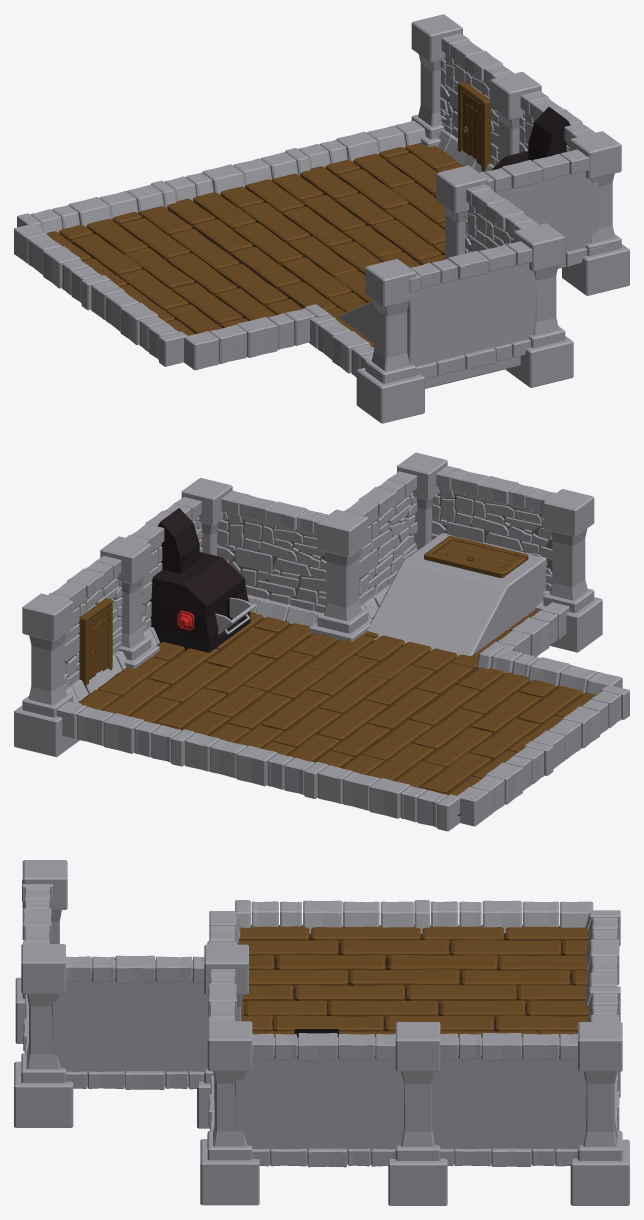
File: Room.fbx
3 renders of one model, top to bottom at view 1: azimuth 30°, elevation 25°; view 2: azimuth 150°, elevation 25°; view 3: azimuth 270°, elevation 25°, orthographic. The views are drawn at different scales.
Visible parts, largest first — view 1: Floor.005, Wall.004, Cube.035, Cube.037; view 2: Floor.005, Wall.004, Cube.037, Cube.036, Cube.035, Cube.038; view 3: Wall.004, Floor.005.
Part boxes in pixels (left/top/right/bottom): Floor.005: left=14, top=120, right=520, bottom=388; Wall.004: left=356, top=14, right=629, bottom=423; Cube.035: left=458, top=81, right=491, bottom=171; Cube.037: left=490, top=107, right=570, bottom=170; Floor.005: left=57, top=533, right=629, bottom=831; Wall.004: left=14, top=452, right=602, bottom=757; Cube.037: left=150, top=508, right=250, bottom=652; Cube.036: left=424, top=535, right=528, bottom=577; Cube.035: left=79, top=598, right=112, bottom=688; Cube.038: left=215, top=597, right=256, bottom=634; Wall.004: left=14, top=860, right=629, bottom=1205; Floor.005: left=91, top=900, right=620, bottom=1130.
Bounding box in the file's own units: 663 × 199 × 674.
